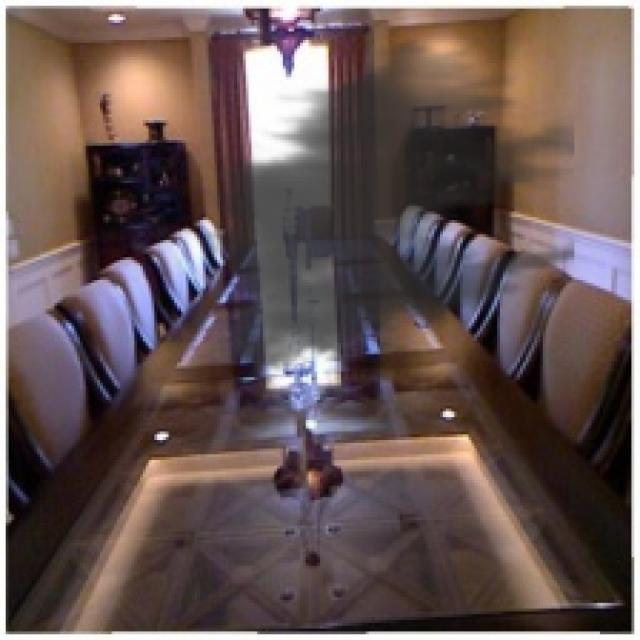smoke: (195, 29, 574, 388)
